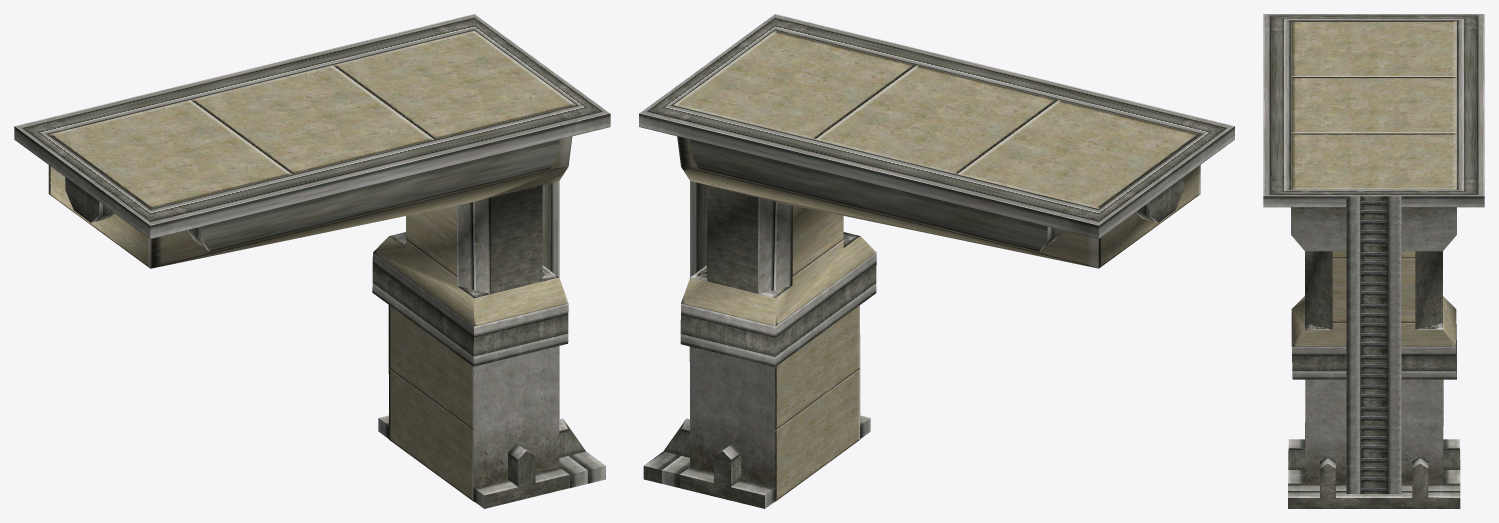
Rendered from DWARF_PALACE_WATER_ROOM_PILLER.fbx.
3 views of the same model, side by side, from view 1: azimuth 30°, elevation 25°; view 2: azimuth 150°, elevation 25°; view 3: azimuth 270°, elevation 25° (orthographic). The views are drawn at different scales.
Parts seen in each view (by area): view 1: DWARF_PALACE_WATER_ROOM_PILLER; view 2: DWARF_PALACE_WATER_ROOM_PILLER; view 3: DWARF_PALACE_WATER_ROOM_PILLER.
Part boxes in pixels (x1,y1,x2,y2): DWARF_PALACE_WATER_ROOM_PILLER: (14,14,610,508); DWARF_PALACE_WATER_ROOM_PILLER: (639,14,1234,508); DWARF_PALACE_WATER_ROOM_PILLER: (1263,14,1484,508).
Size of the model in its own units: 110215 by 85082 by 55182.
Materials: 8 (8 with a texture image).
